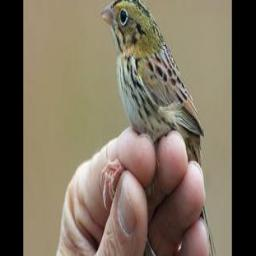Sparrow: (100, 0, 221, 256)
